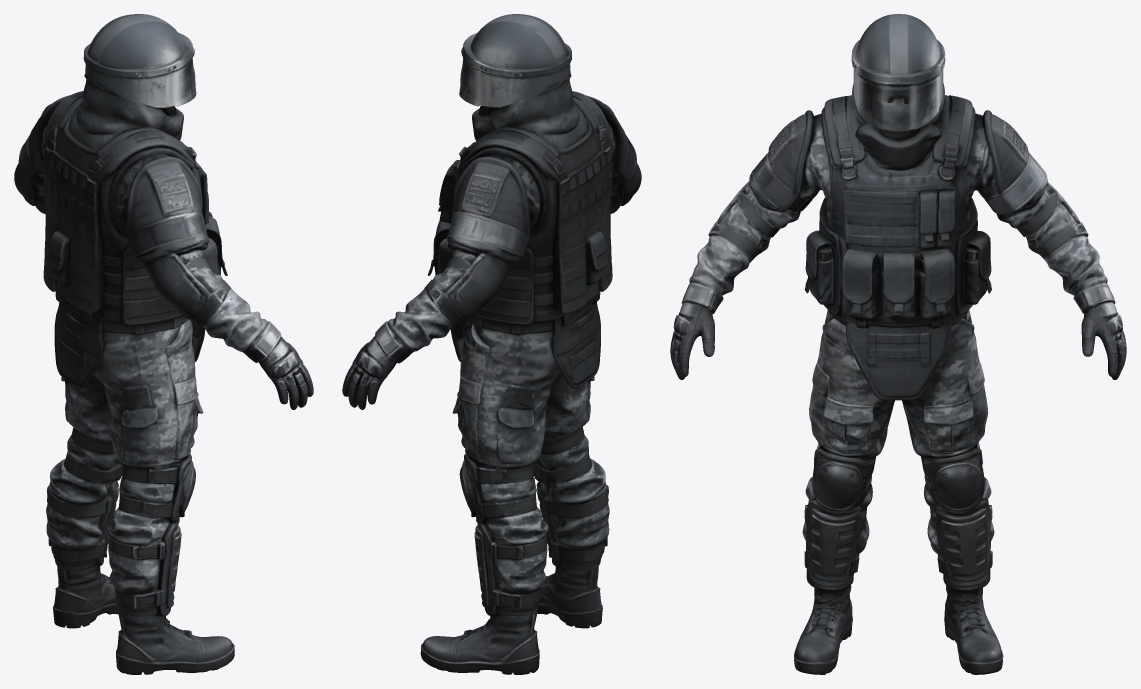
The model's file is tank_karakter.glb.
3 views of the same model, side by side, from view 1: azimuth 30°, elevation 25°; view 2: azimuth 150°, elevation 25°; view 3: azimuth 270°, elevation 25° (orthographic).
Visible parts, largest first — view 1: tripo_node_09b74175-a617-4f96-ab31-873e1fddde88; view 2: tripo_node_09b74175-a617-4f96-ab31-873e1fddde88; view 3: tripo_node_09b74175-a617-4f96-ab31-873e1fddde88.
Part boxes in pixels (<box>): tripo_node_09b74175-a617-4f96-ab31-873e1fddde88: <box>14,14,313,674</box>; tripo_node_09b74175-a617-4f96-ab31-873e1fddde88: <box>342,14,641,674</box>; tripo_node_09b74175-a617-4f96-ab31-873e1fddde88: <box>670,14,1126,674</box>.
Size of the model in its own units: 0.2682 by 0.9985 by 0.6535.
1 material, 1 textured.
